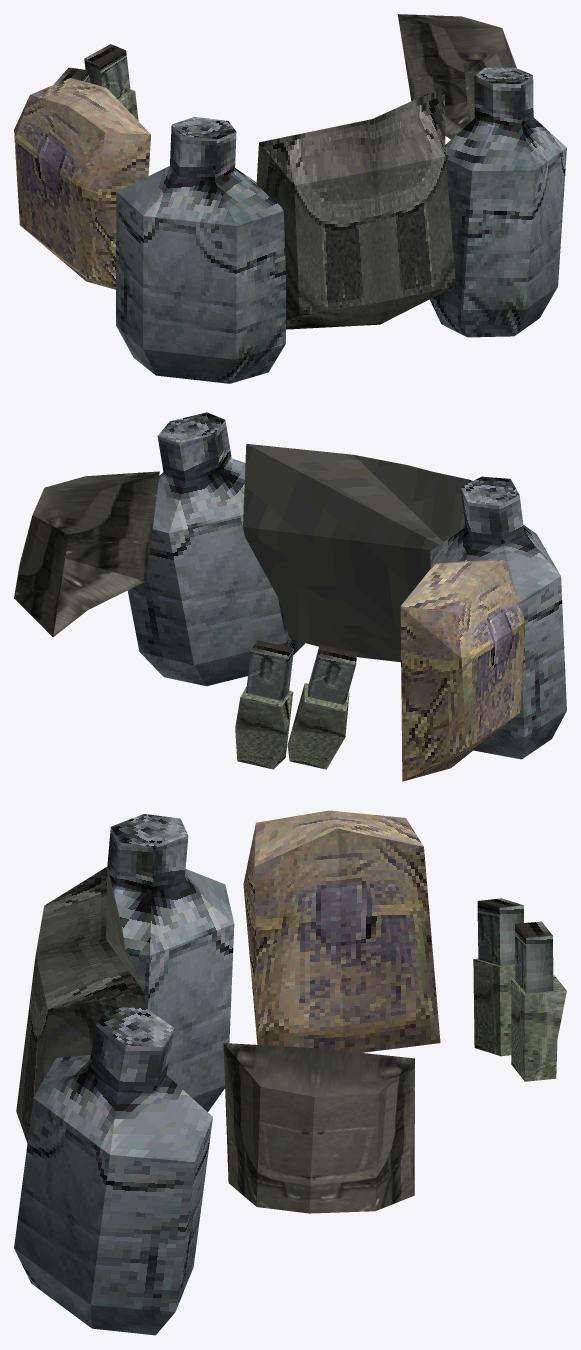
The model's file is recovered_gear_seal_woodland_gear_393f770051af.glb.
3 views of the same model, one above another, from view 1: azimuth 30°, elevation 25°; view 2: azimuth 150°, elevation 25°; view 3: azimuth 270°, elevation 25° (orthographic). The views are drawn at different scales.
Visible parts, largest first — view 1: seal_woodland_gear; view 2: seal_woodland_gear; view 3: seal_woodland_gear.
Boxes of the visible parts, box(x1,y1,x2,y2) form: seal_woodland_gear: box(14, 14, 566, 383); seal_woodland_gear: box(14, 412, 566, 781); seal_woodland_gear: box(14, 810, 566, 1335).
Bounding box in the file's own units: 0.5024 × 0.2565 × 0.4057.
Materials: 5 (5 with a texture image).
